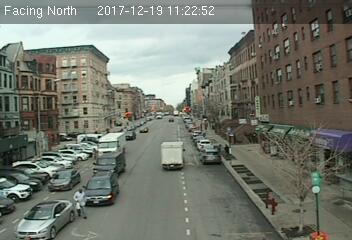car: (15, 198, 76, 240), (82, 176, 119, 207), (49, 167, 81, 190), (200, 147, 222, 166)
truck: (96, 131, 127, 160), (93, 153, 125, 177), (160, 140, 184, 169)
